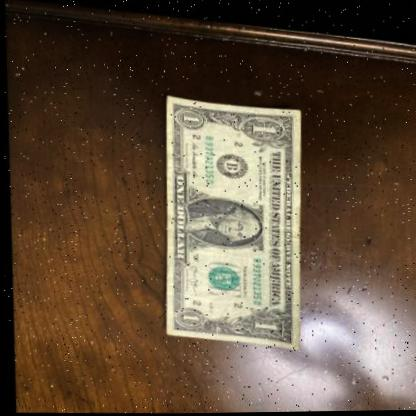one-front: (152, 86, 309, 346)
